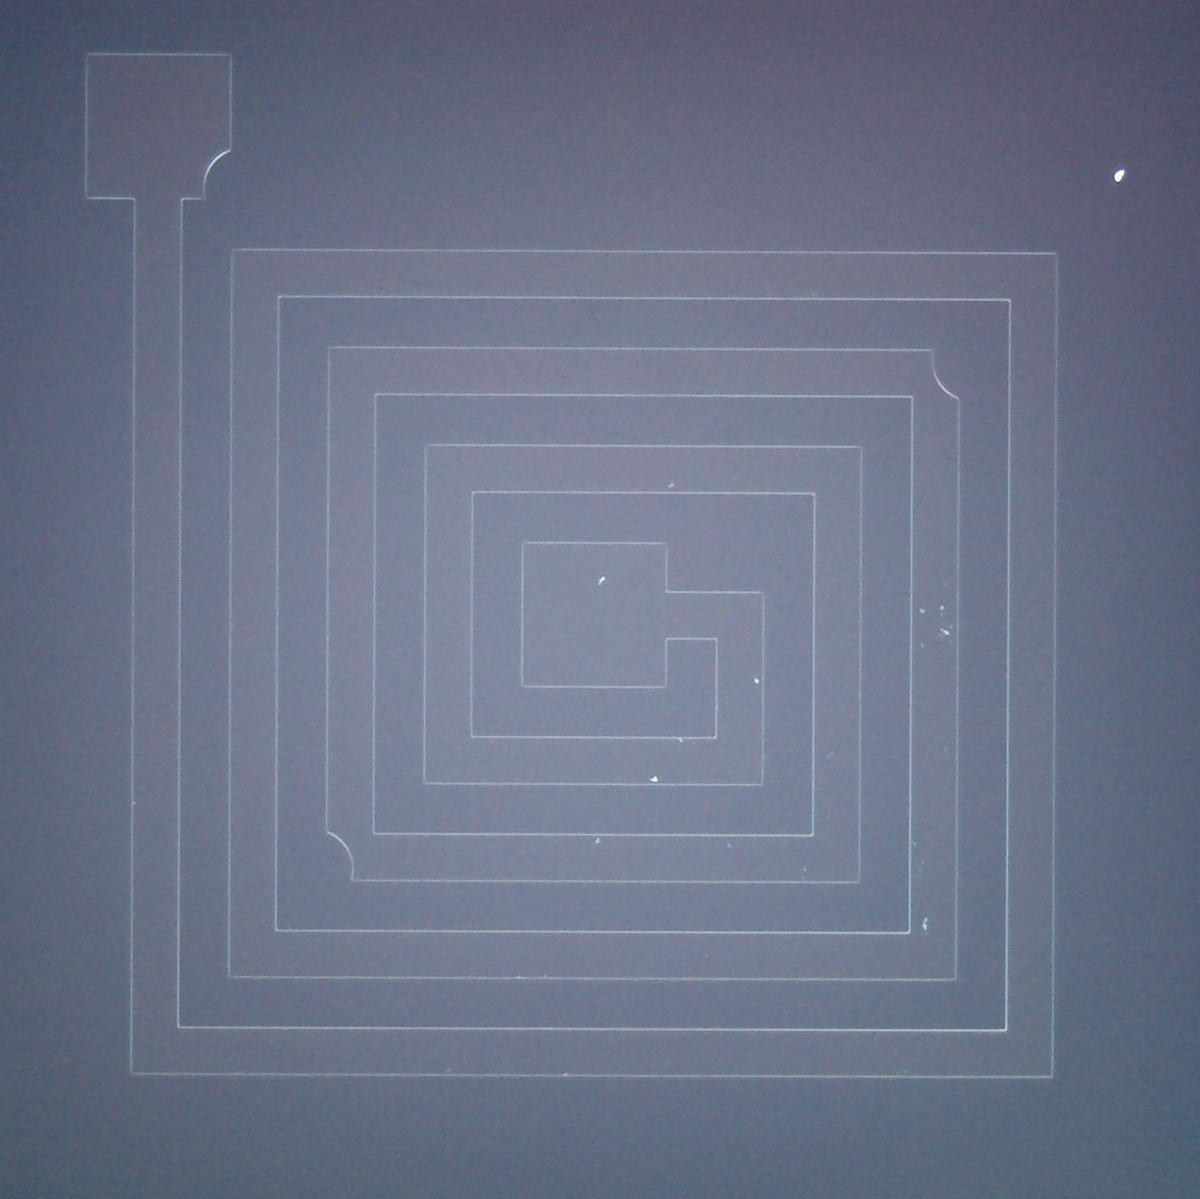B_point: (938, 625, 954, 641), (918, 918, 932, 933), (648, 774, 660, 786), (596, 574, 607, 587), (825, 751, 834, 762)
cut: (157, 120, 262, 222), (876, 335, 982, 437), (307, 810, 408, 895)
s_point: (1114, 170, 1125, 182), (592, 836, 603, 847), (751, 675, 762, 686), (666, 480, 676, 492), (917, 605, 927, 616), (676, 736, 686, 746), (725, 841, 734, 851), (938, 603, 946, 613), (918, 641, 927, 651), (800, 864, 809, 874)
